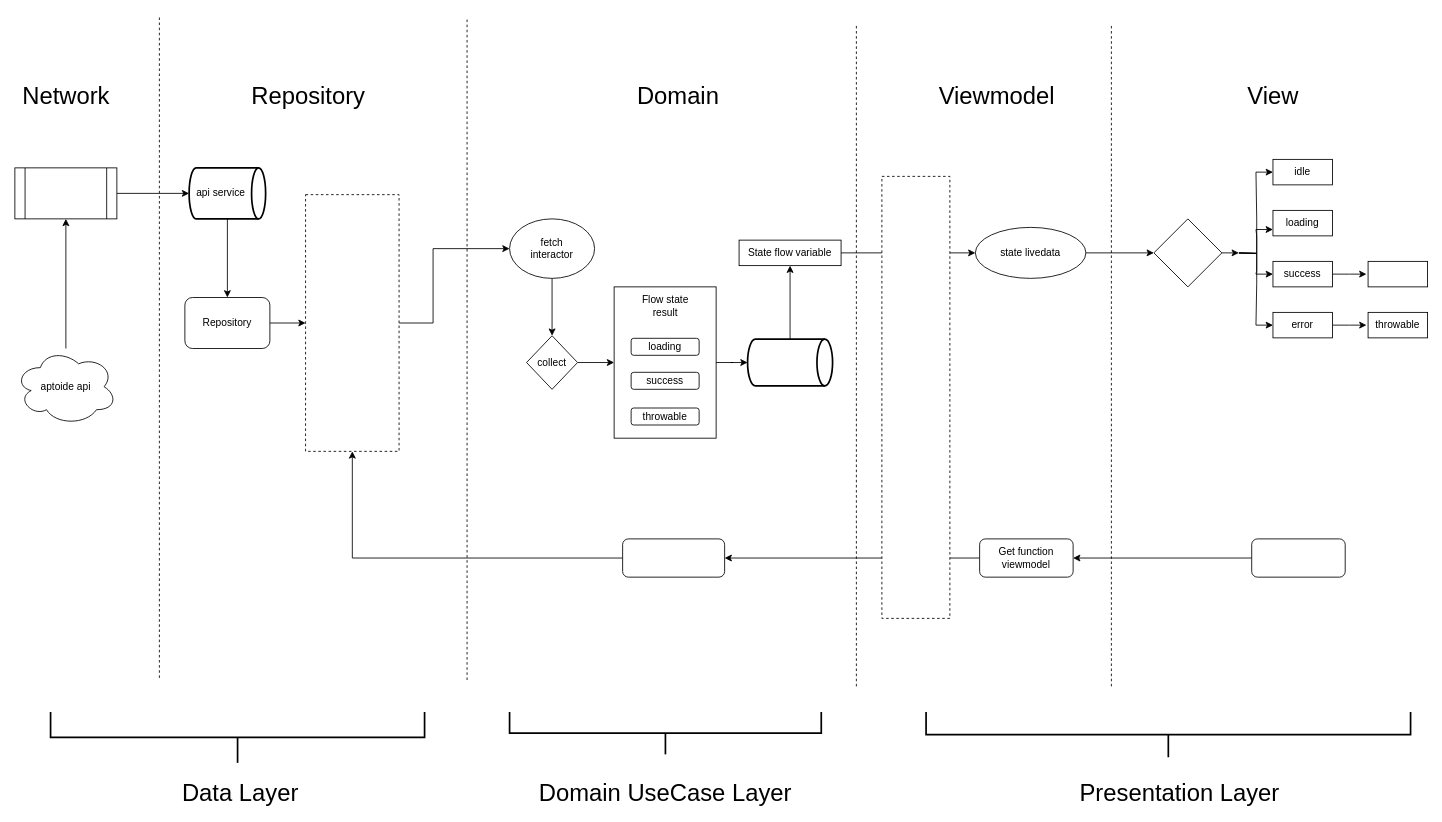
This 1442x822 diagram has some shape labels left out. Here are the shapes that lost their labels. From the top down, the box of each, then its label:
(14, 167, 117, 219): network threading handle
(1153, 218, 1222, 287): observer
(1367, 261, 1428, 287): data result
(305, 194, 399, 451): Get function raw response
(746, 338, 833, 386): result DTO wrapped
(881, 176, 950, 618): viewmodel scope
(622, 538, 725, 577): Get function scope
(1251, 538, 1345, 577): Get function activity/fragment
